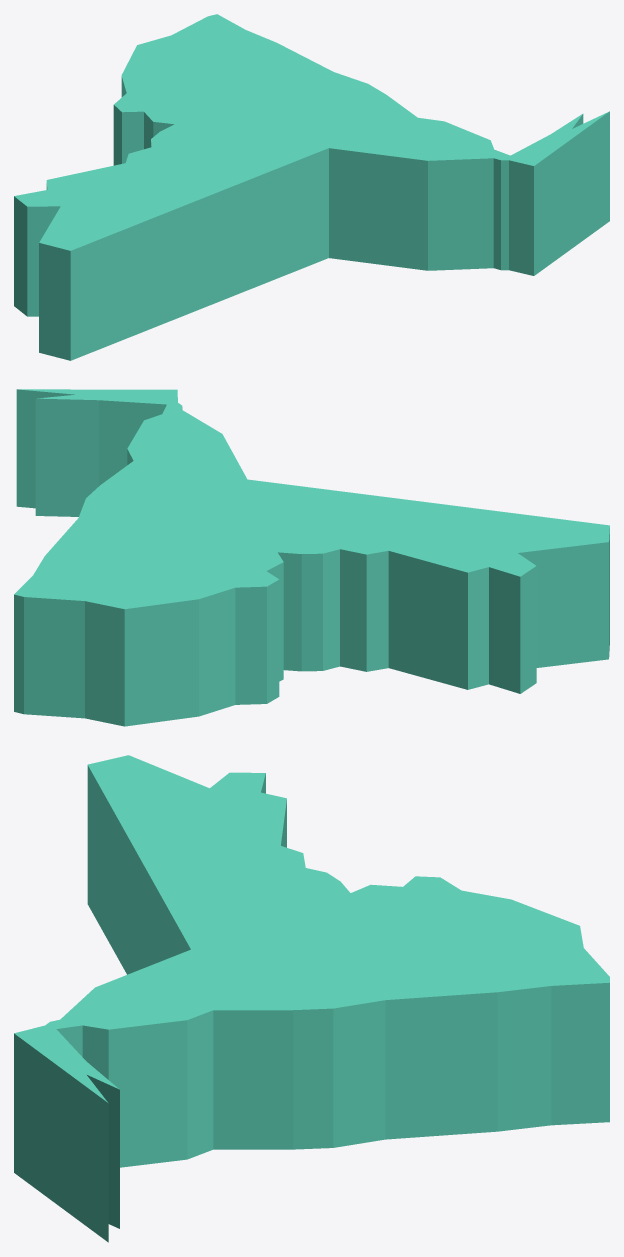
Rendered from NewYork.glb.
3 renders of one model, top to bottom at view 1: azimuth 30°, elevation 25°; view 2: azimuth 150°, elevation 25°; view 3: azimuth 270°, elevation 25°, orthographic. The views are drawn at different scales.
Visible parts, largest first — view 1: Plane.085; view 2: Plane.085; view 3: Plane.085.
Part boxes in pixels (bbox=[...]): Plane.085: bbox=[14, 14, 609, 360]; Plane.085: bbox=[14, 389, 609, 726]; Plane.085: bbox=[14, 755, 609, 1242].
Bounding box in the file's own units: 3.7 × 0.6909 × 2.68.
